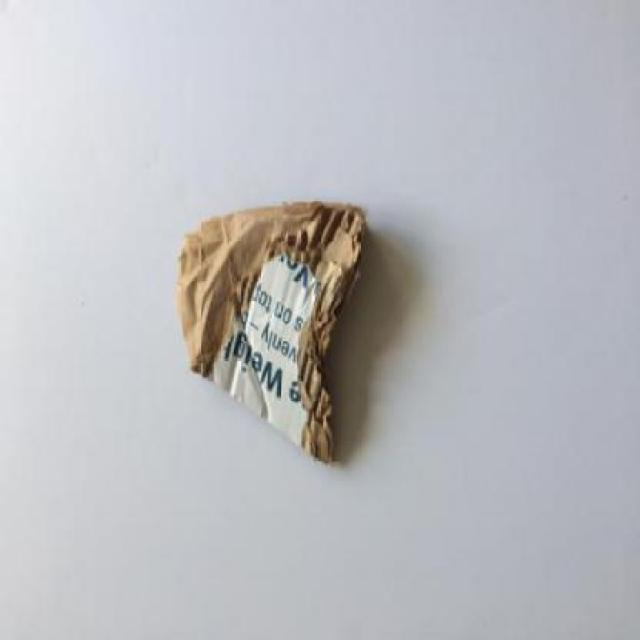giay: (174, 202, 371, 465)
